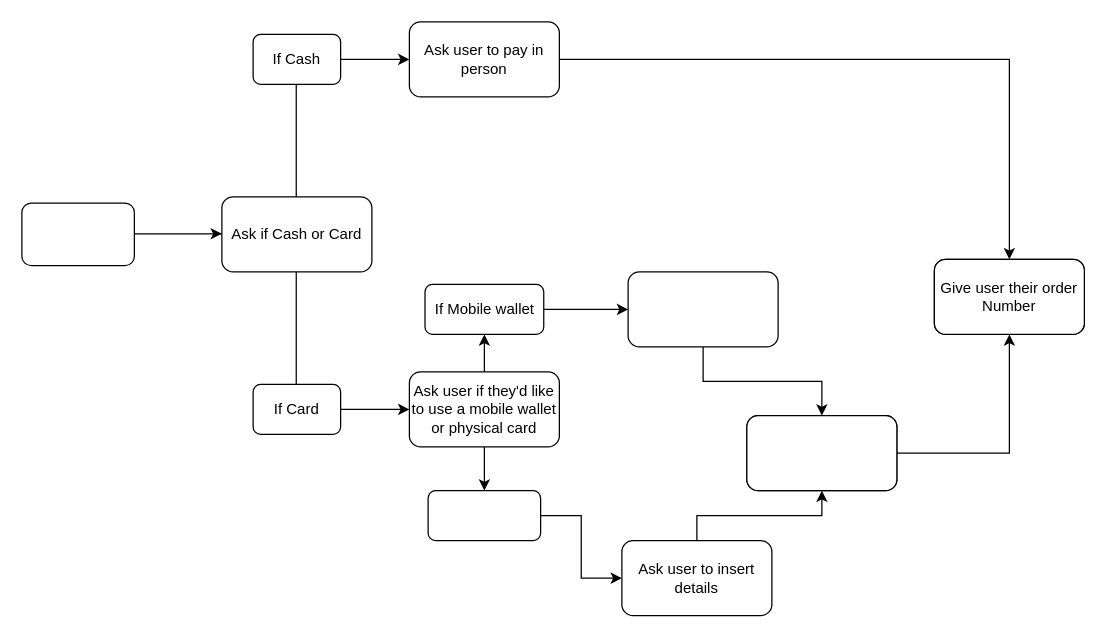
Some shapes in this 1106 by 638 pixel diagram are drawn without their labels. Here are the shapes that lost their labels. From the top down, the centre of each, then its label:
At pixel 77 234: "Create Transaction".
At pixel 702 309: "Prompt user to pay using apple/android pay".
At pixel 821 452: "Complete payment".
At pixel 484 515: "if physical card".
